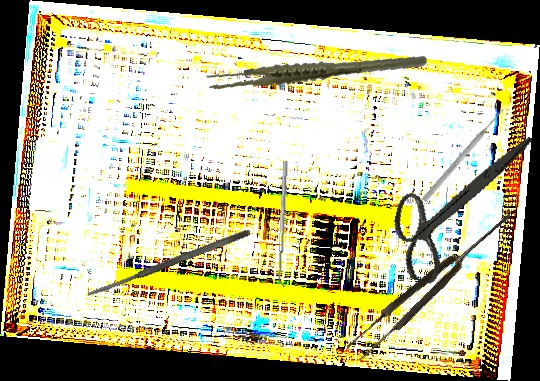Iris Scissors: (381, 110, 535, 300)
Pusher: (420, 106, 507, 204)
Spatula Surgical: (84, 227, 252, 300), (276, 160, 293, 288)
Tissue Forceps: (344, 206, 520, 363), (205, 35, 428, 109)
